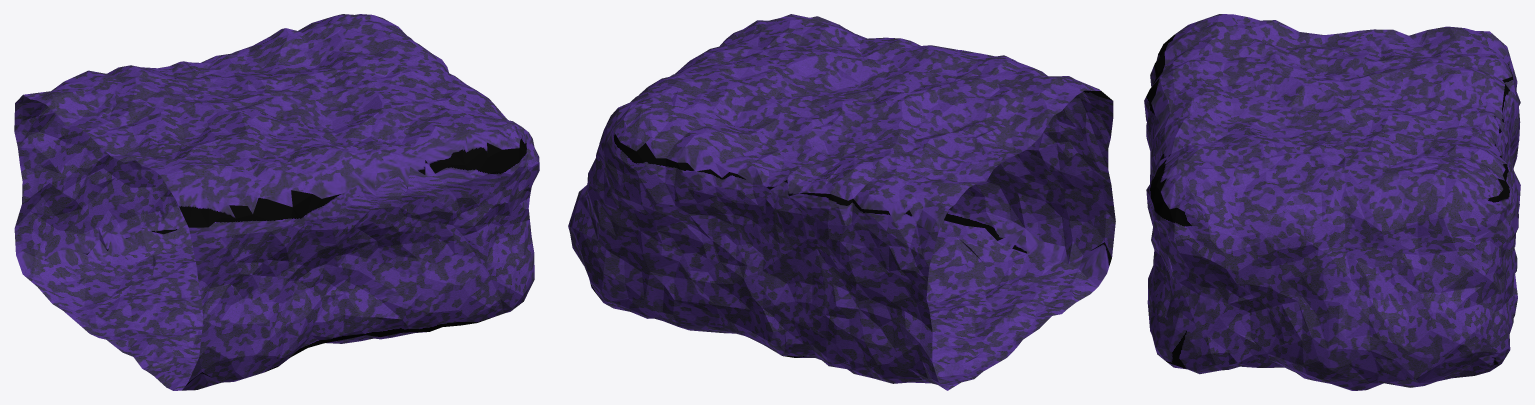
The model's file is sceneV6.glb.
3 views of the same model, side by side, from view 1: azimuth 30°, elevation 25°; view 2: azimuth 150°, elevation 25°; view 3: azimuth 270°, elevation 25° (orthographic).
Visible parts, largest first — view 1: Grotte2; view 2: Grotte2; view 3: Grotte2.
Part boxes in pixels (box(x1,y1,x2,y2)): Grotte2: box(14, 14, 539, 390); Grotte2: box(568, 14, 1115, 390); Grotte2: box(1144, 14, 1520, 390).
Bounding box in the file's own units: 41.86 × 22.15 × 34.31.
Materials: 1 (1 with a texture image).
